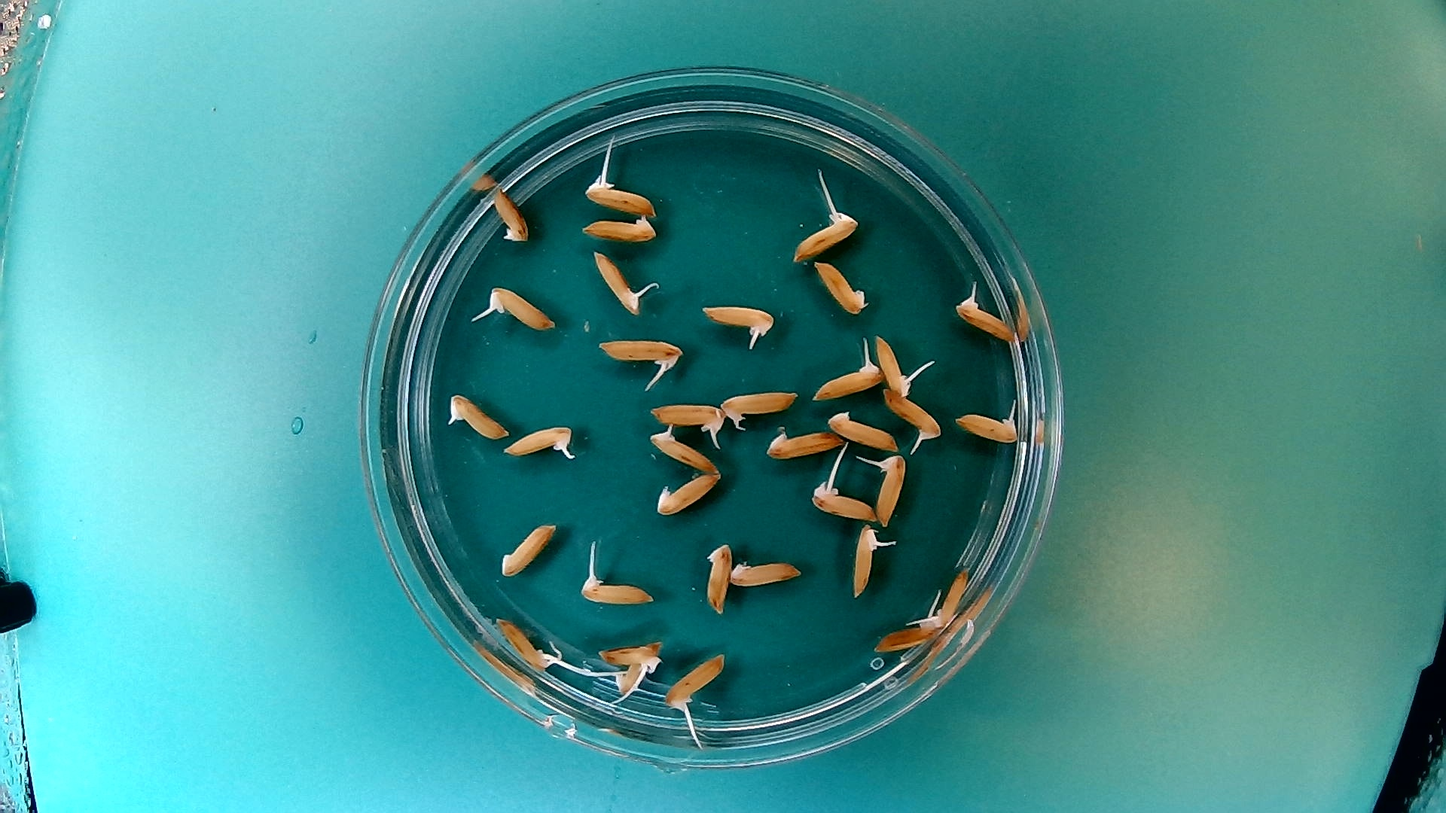no: (497, 516, 560, 578), (652, 468, 725, 518), (487, 183, 537, 254), (812, 258, 871, 316), (825, 408, 901, 451), (761, 425, 847, 461), (728, 559, 815, 589), (702, 536, 734, 617), (579, 212, 658, 243), (612, 649, 657, 699)
yes: (592, 332, 685, 380), (663, 650, 728, 718), (871, 596, 945, 655), (491, 614, 562, 675), (591, 246, 652, 317), (647, 398, 730, 449), (697, 298, 777, 347), (580, 172, 659, 218), (788, 211, 857, 263), (718, 386, 801, 429), (953, 293, 1023, 343), (480, 281, 545, 333), (880, 390, 942, 444), (645, 427, 721, 471), (809, 355, 883, 400), (444, 391, 511, 440), (500, 420, 578, 462), (810, 477, 880, 522), (873, 330, 919, 397), (923, 565, 970, 628), (850, 522, 887, 600), (575, 572, 657, 607), (593, 637, 667, 673), (874, 450, 907, 526), (954, 410, 1025, 445)
